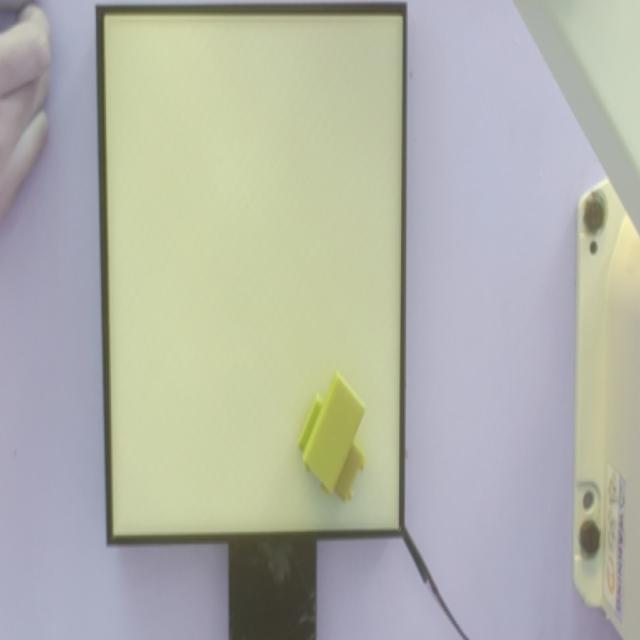bateria: (301, 370, 367, 496)
mesa: (95, 1, 407, 547)
